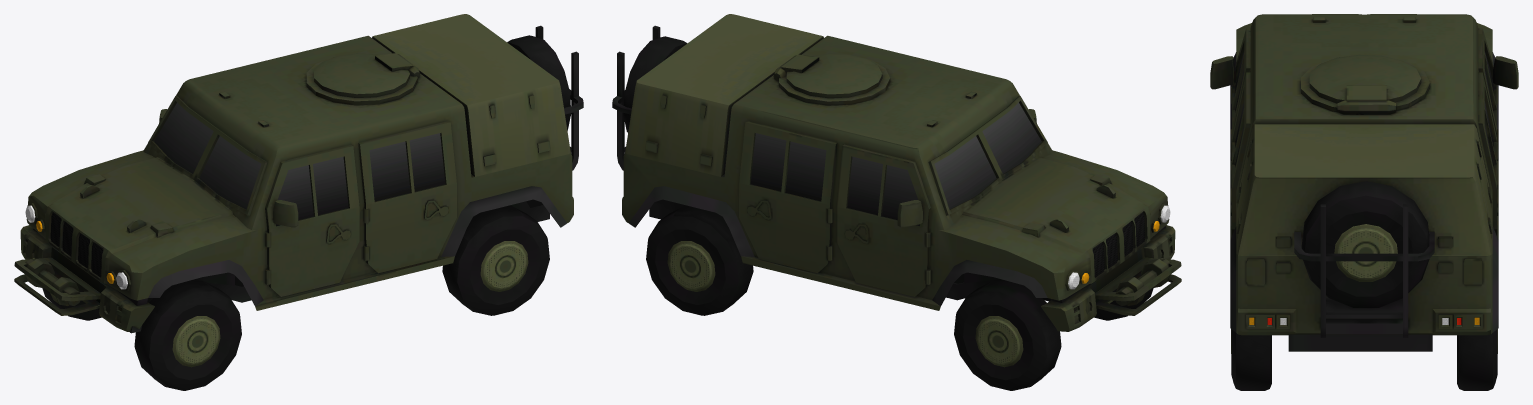
Rendered from lmv.obj.
3 renders of one model, left to right at view 1: azimuth 30°, elevation 25°; view 2: azimuth 150°, elevation 25°; view 3: azimuth 270°, elevation 25°, orthographic. The views are drawn at different scales.
Parts seen in each view (by area): view 1: Plane; view 2: Plane; view 3: Plane.
Boxes of the visible parts, left/top/right/bottom form: Plane: left=14, top=14, right=583, bottom=390; Plane: left=612, top=14, right=1181, bottom=390; Plane: left=1210, top=14, right=1518, bottom=390.
Size of the model in its own units: 5.15 by 2.14 by 2.27.
